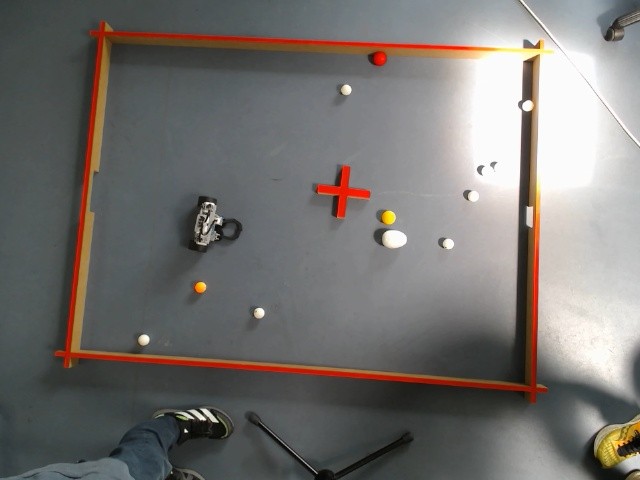big_goal: (80, 168, 98, 210)
cross: (316, 165, 371, 219)
egg: (381, 228, 407, 248)
orange: (194, 282, 206, 293)
robot: (186, 195, 242, 251)
small_goal: (526, 204, 540, 228)
wall: (66, 348, 527, 393), (64, 30, 110, 348), (106, 30, 541, 62), (524, 51, 544, 386)
white: (338, 84, 352, 95), (252, 306, 264, 318), (442, 237, 454, 249), (522, 99, 534, 111), (138, 333, 149, 345), (492, 161, 504, 171), (467, 191, 478, 201), (481, 165, 491, 176)
